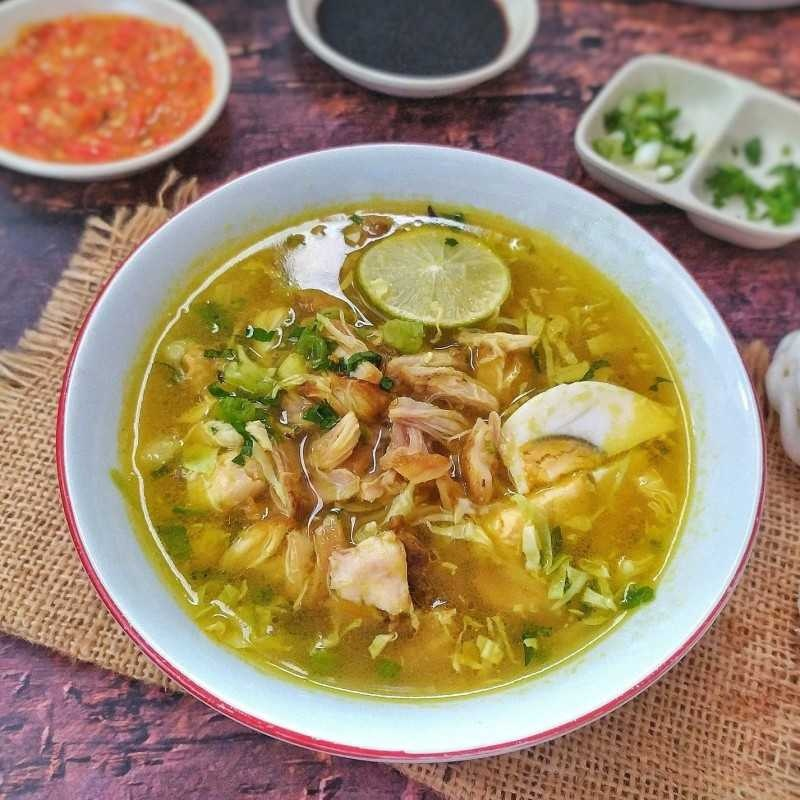soto: (59, 147, 759, 758)
